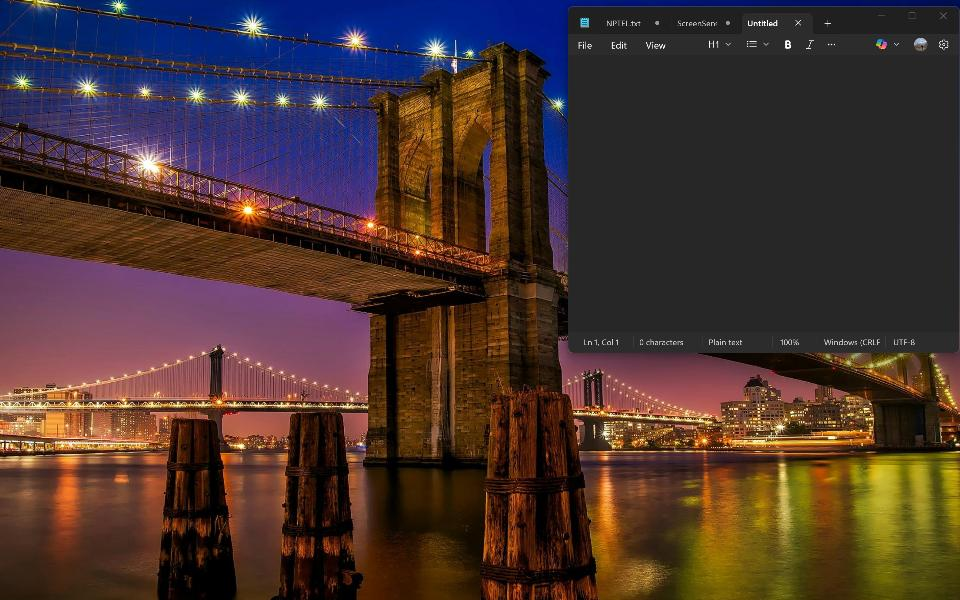close_button: (931, 7, 954, 30)
maximize_button: (904, 8, 922, 29)
minimize_button: (867, 7, 894, 30)
